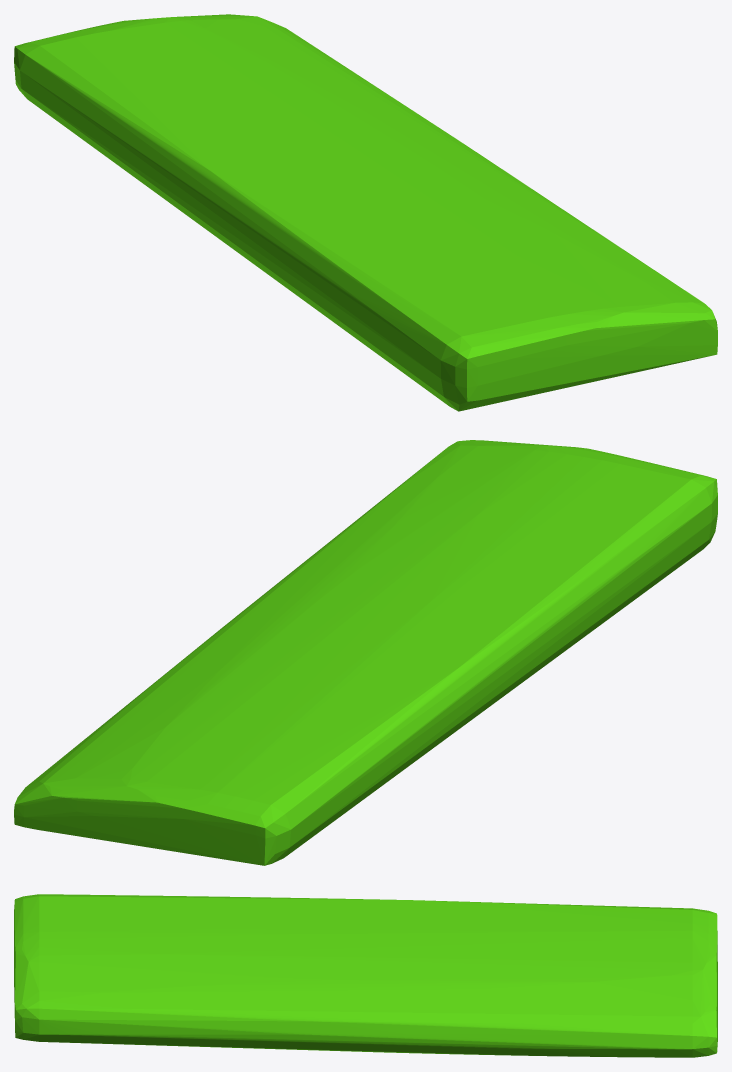
The model's file is left-shoulder-yaw-0_part_17.obj.
The picture shows the model from 3 angles, top to bottom: view 1: azimuth 30°, elevation 25°; view 2: azimuth 150°, elevation 25°; view 3: azimuth 270°, elevation 25°; orthographic projection. The views are drawn at different scales.
Bounding box in the file's own units: 0.0197 × 0.00613 × 0.0569.
